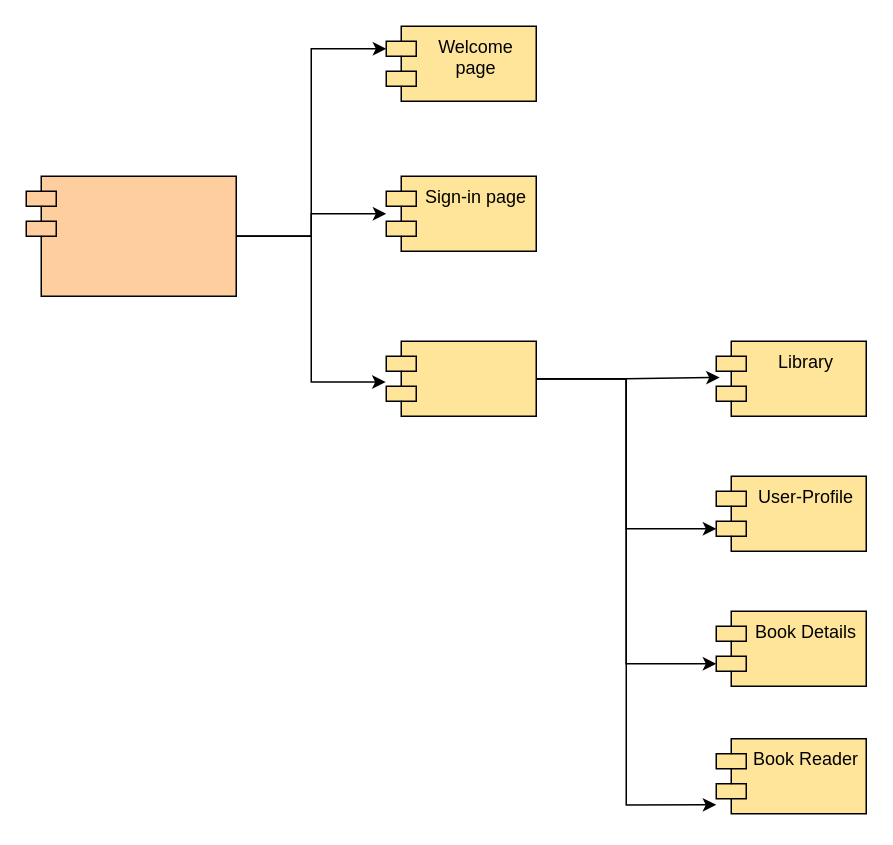
The diagram is 893 pixels wide and 845 high, and some of its shapes have lost their labels. The centre of each missing label's shape, as x and y in pixels:
Home Page: the point at 460,378
Vintage Reads: the point at 130,235
